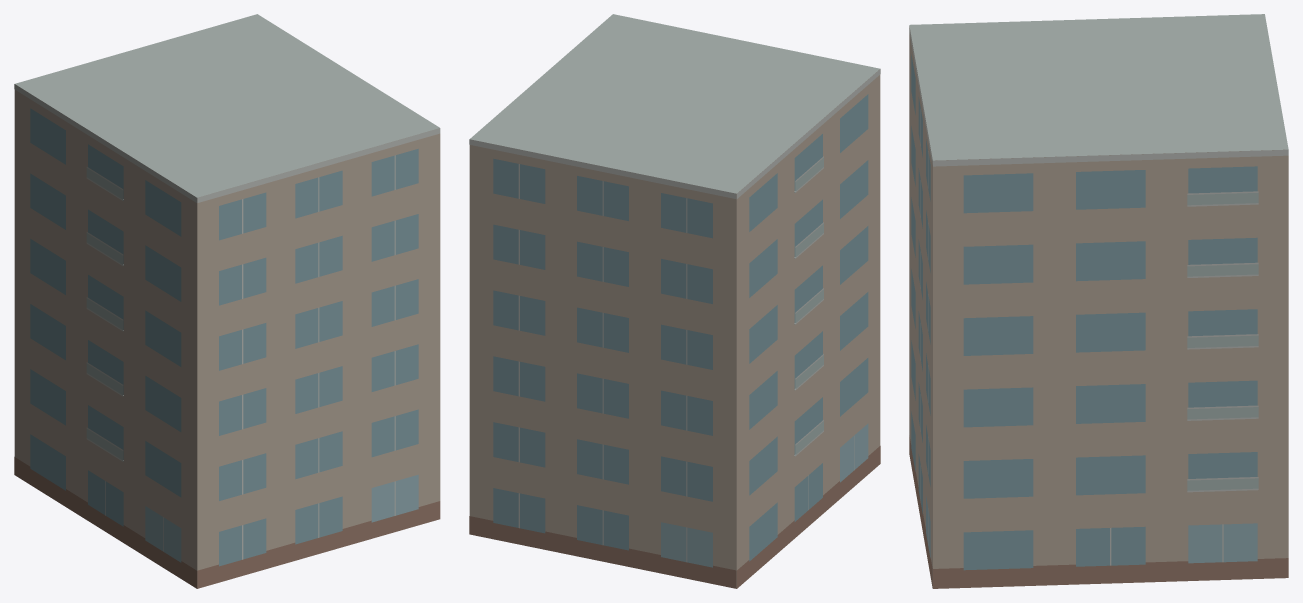
The model's file is survey-upis-32992539.glb.
The picture shows the model from 3 angles, left to right: view 1: azimuth 30°, elevation 25°; view 2: azimuth 150°, elevation 25°; view 3: azimuth 270°, elevation 25°; orthographic projection. The views are drawn at different scales.
Visible parts, largest first — view 1: survey-upis-32992539.tmp; view 2: survey-upis-32992539.tmp; view 3: survey-upis-32992539.tmp.
Boxes of the visible parts, x1,y1,x2,y2 form: survey-upis-32992539.tmp: (14, 14, 440, 588); survey-upis-32992539.tmp: (469, 14, 880, 588); survey-upis-32992539.tmp: (909, 14, 1288, 588).
Bounding box in the file's own units: 12.7 × 17.3 × 13.9.
